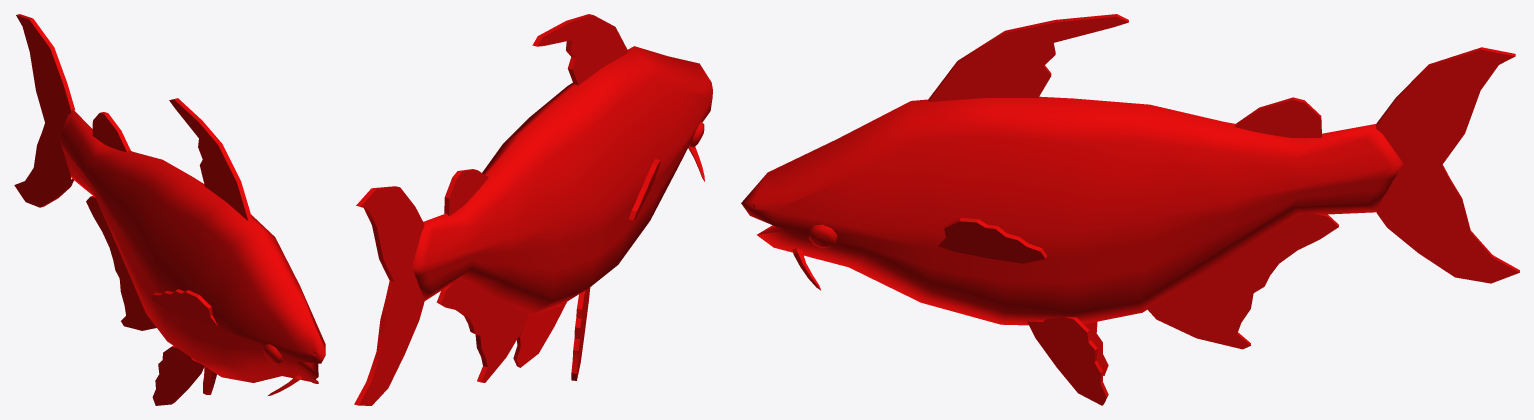
3 renders of one model, left to right at view 1: azimuth 30°, elevation 25°; view 2: azimuth 150°, elevation 25°; view 3: azimuth 270°, elevation 25°, orthographic. The views are drawn at different scales.
Visible parts, largest first — view 1: Fish_MekongGiantCatfish; view 2: Fish_MekongGiantCatfish; view 3: Fish_MekongGiantCatfish.
Part boxes in pixels (box(x1,y1,x2,y2)): Fish_MekongGiantCatfish: box(14, 14, 325, 405); Fish_MekongGiantCatfish: box(354, 14, 712, 405); Fish_MekongGiantCatfish: box(741, 14, 1519, 405).
Size of the model in its own units: 0.2968 by 0.7854 by 1.48.
